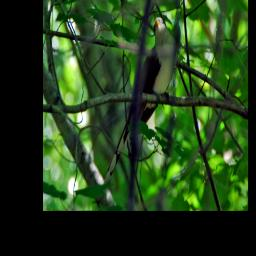Cuckoo: (98, 15, 178, 187)
